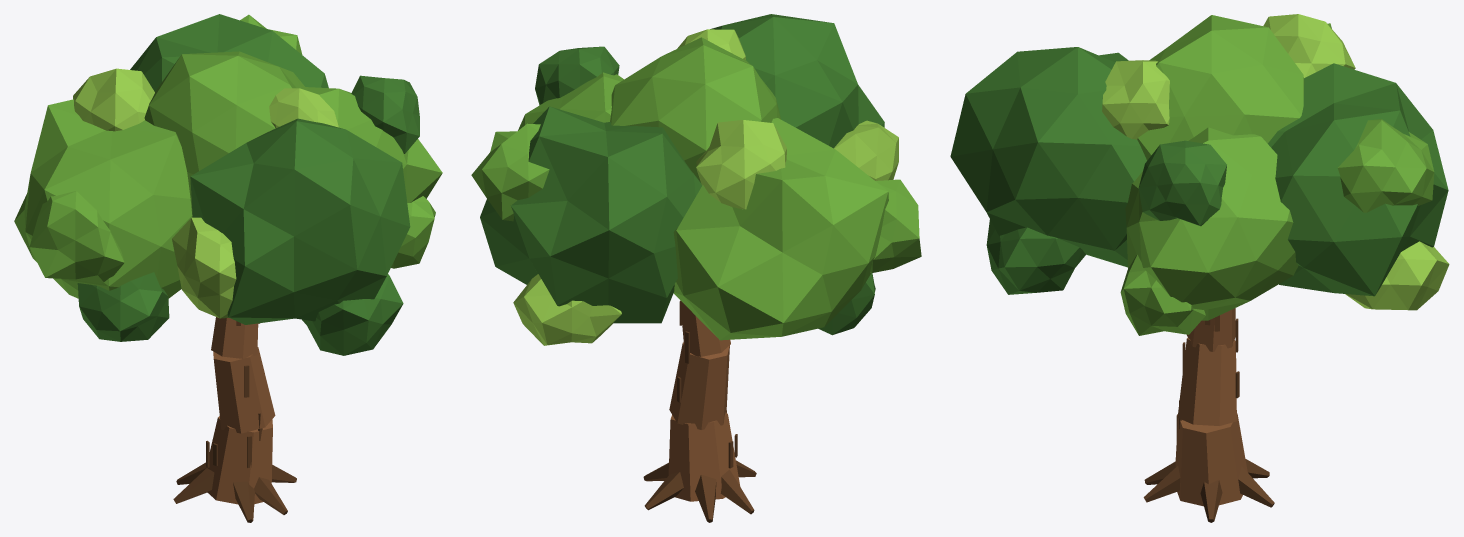
The model's file is arbol_gigante.glb.
3 renders of one model, left to right at view 1: azimuth 30°, elevation 25°; view 2: azimuth 150°, elevation 25°; view 3: azimuth 270°, elevation 25°, orthographic. The views are drawn at different scales.
Parts seen in each view (by area): view 1: arbol_gigante_hoja_osc, arbol_gigante_hoja, arbol_gigante_hoja_clara, arbol_gigante_tronco, arbol_gigante_tronco_osc; view 2: arbol_gigante_hoja, arbol_gigante_hoja_osc, arbol_gigante_hoja_clara, arbol_gigante_tronco, arbol_gigante_tronco_osc; view 3: arbol_gigante_hoja_osc, arbol_gigante_hoja, arbol_gigante_hoja_clara, arbol_gigante_tronco, arbol_gigante_tronco_osc.
Boxes of the visible parts, bbox=[...] form: arbol_gigante_hoja_osc: bbox=[77, 14, 419, 355]; arbol_gigante_hoja: bbox=[14, 14, 442, 298]; arbol_gigante_hoja_clara: bbox=[73, 68, 338, 318]; arbol_gigante_tronco: bbox=[206, 317, 275, 504]; arbol_gigante_tronco_osc: bbox=[173, 321, 296, 522]; arbol_gigante_hoja: bbox=[471, 37, 921, 340]; arbol_gigante_hoja_osc: bbox=[480, 14, 884, 335]; arbol_gigante_hoja_clara: bbox=[513, 29, 898, 345]; arbol_gigante_tronco: bbox=[668, 300, 740, 501]; arbol_gigante_tronco_osc: bbox=[643, 301, 756, 522]; arbol_gigante_hoja_osc: bbox=[950, 47, 1448, 296]; arbol_gigante_hoja: bbox=[1120, 15, 1434, 335]; arbol_gigante_hoja_clara: bbox=[1102, 14, 1449, 310]; arbol_gigante_tronco: bbox=[1175, 308, 1247, 506]; arbol_gigante_tronco_osc: bbox=[1143, 315, 1274, 522].
Size of the model in its own units: 11.84 by 12.56 by 12.26.
